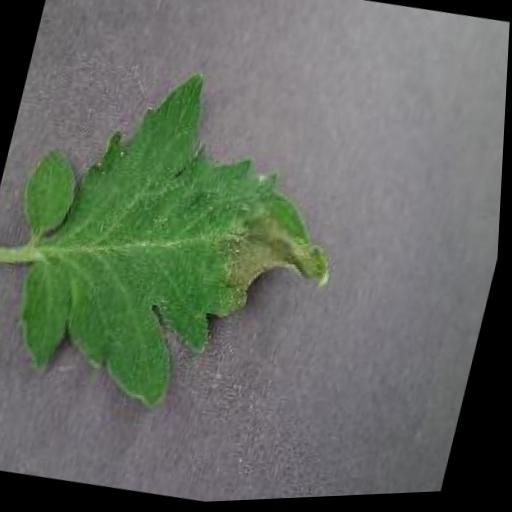Late Blight: (0, 45, 379, 441)
